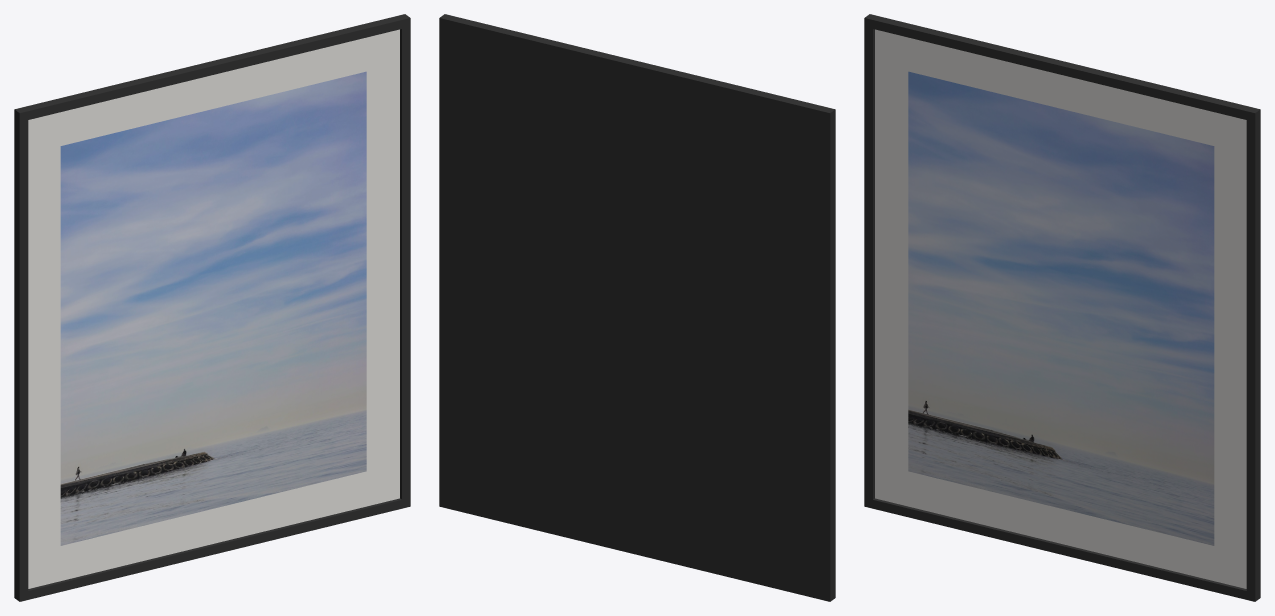
Rendered from piren-90.gltf.
3 renders of one model, left to right at view 1: azimuth 30°, elevation 25°; view 2: azimuth 150°, elevation 25°; view 3: azimuth 330°, elevation 25°, orthographic.
Visible parts, largest first — view 1: tavla; view 2: tavla; view 3: tavla.
Part boxes in pixels (x1=…): tavla: x1=14, y1=14, x2=410, y2=601; tavla: x1=439, y1=14, x2=835, y2=601; tavla: x1=864, y1=14, x2=1260, y2=601.
Bounding box in the file's own units: 0.9205 × 1.1 × 0.022.
Materials: 3 (1 with a texture image).
